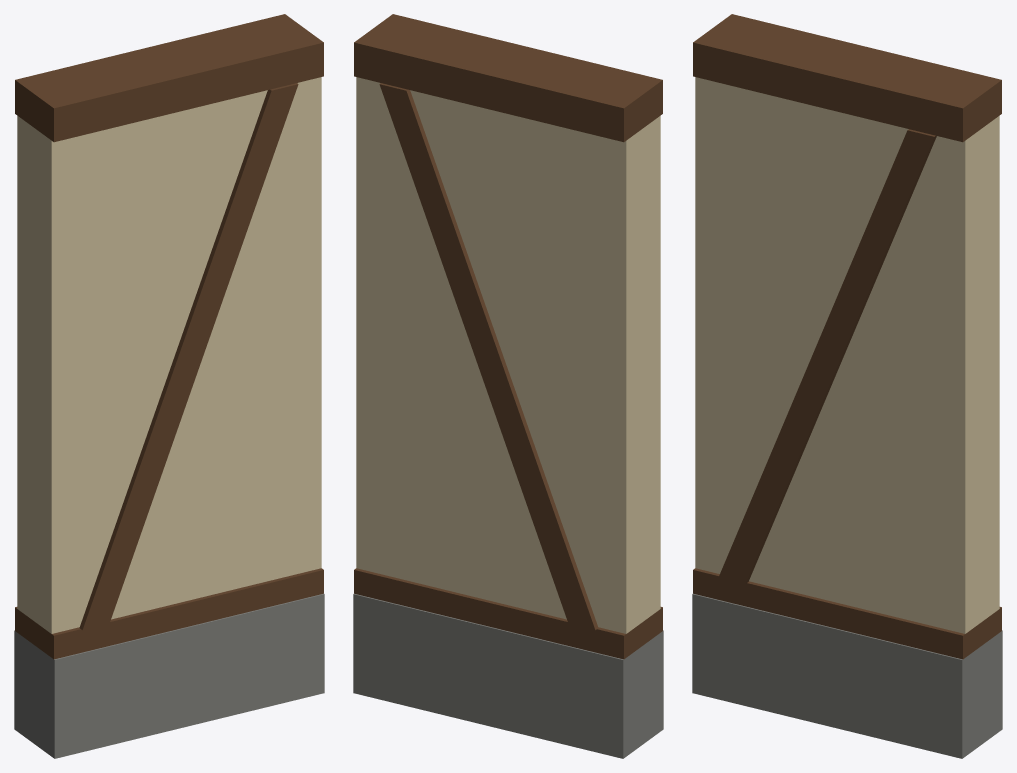
The model's file is WallBraced.fbx.
3 renders of one model, left to right at view 1: azimuth 30°, elevation 25°; view 2: azimuth 150°, elevation 25°; view 3: azimuth 330°, elevation 25°, orthographic.
Visible parts, largest first — view 1: Kit_WallBraced; view 2: Kit_WallBraced; view 3: Kit_WallBraced.
Part boxes in pixels (left/top/right/bottom): Kit_WallBraced: left=14, top=14, right=324, bottom=758; Kit_WallBraced: left=353, top=14, right=663, bottom=758; Kit_WallBraced: left=692, top=14, right=1002, bottom=758.
Size of the model in its own units: 1 by 2.3 by 0.27.
